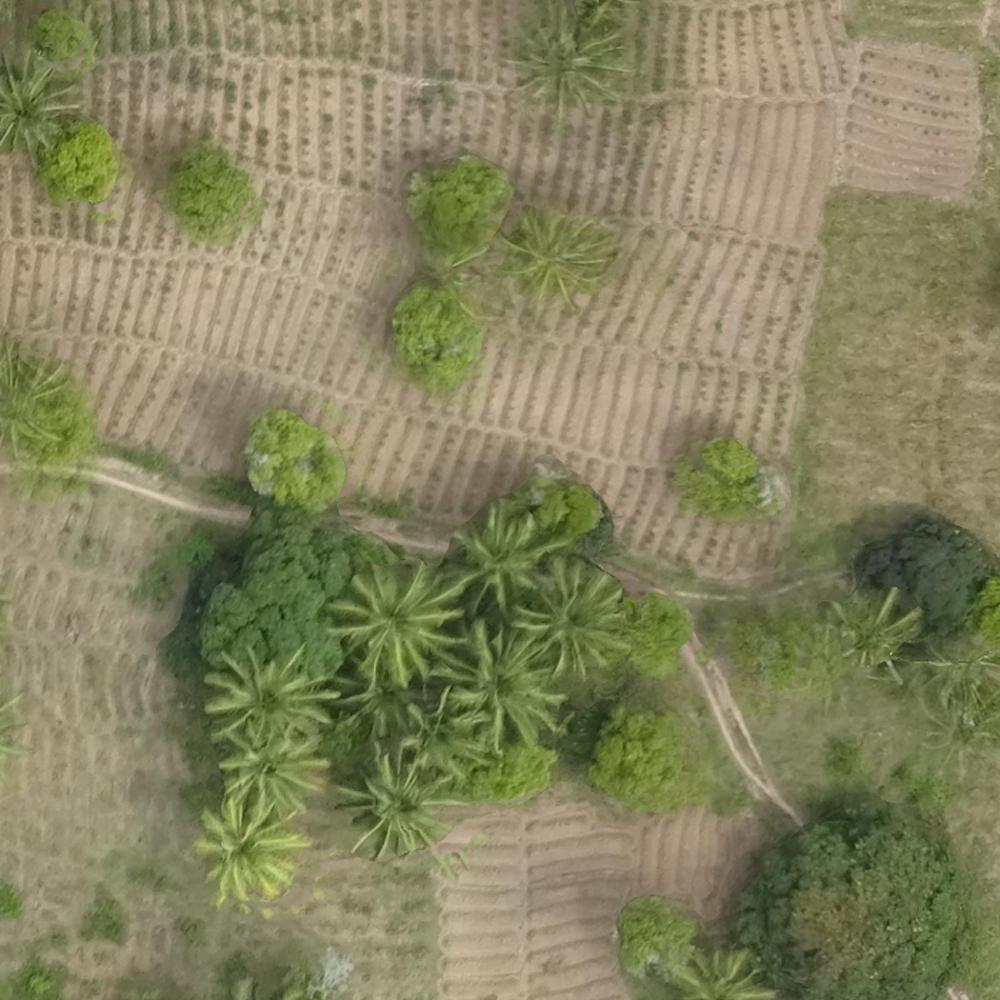Palm: (336, 563, 459, 682), (454, 623, 568, 748), (205, 644, 330, 748), (513, 559, 627, 668), (509, 8, 625, 112), (338, 749, 452, 851), (500, 206, 605, 310), (448, 508, 550, 605), (195, 807, 295, 904), (221, 728, 329, 813), (2, 57, 85, 152)
